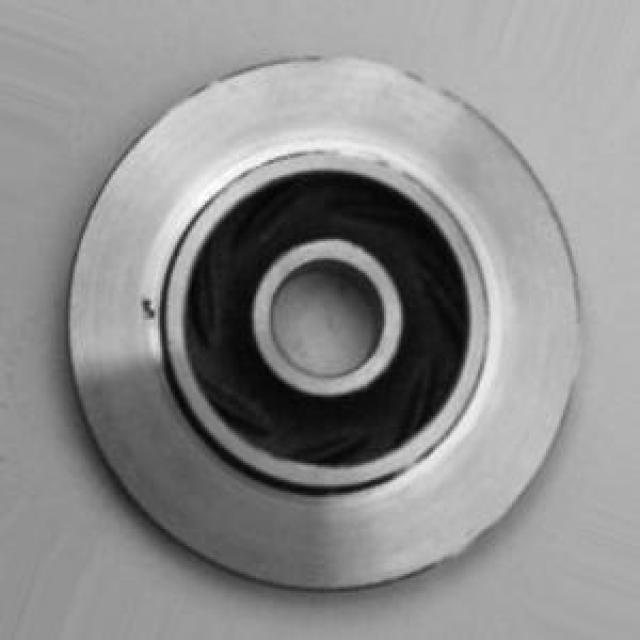Defect: (129, 287, 161, 332)
